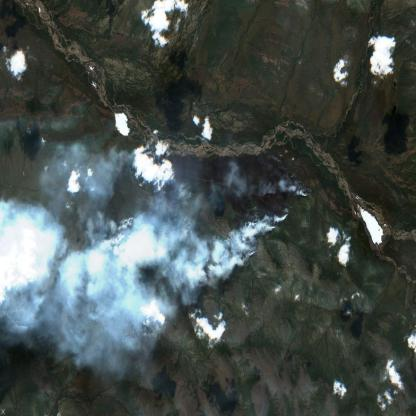fire: (244, 202, 288, 262), (282, 174, 316, 200)
